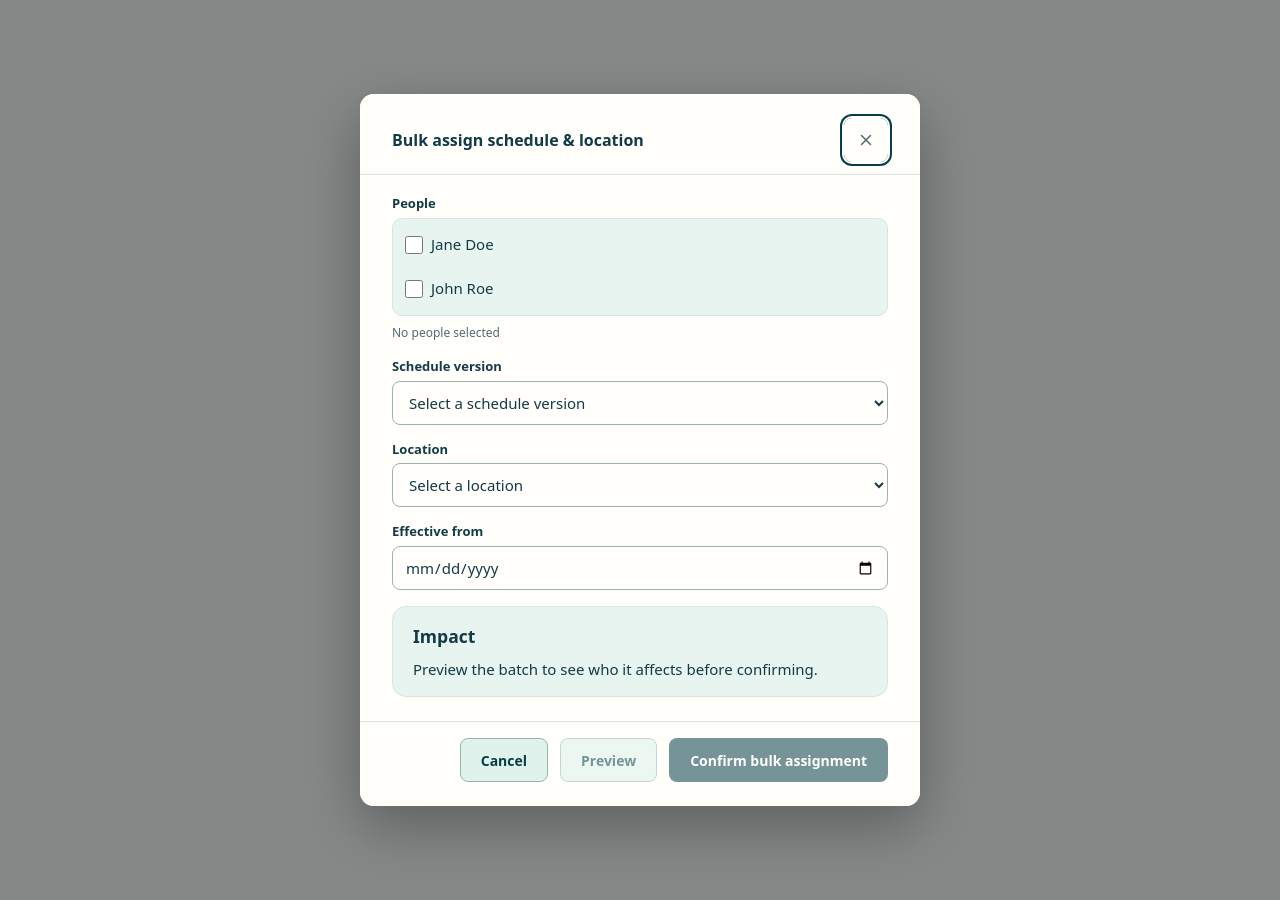
Test case: BulkScheduleAssignmentModal › confirm disabled until preview resolves
Expected: the button with test id "bulk-assignment-confirm-submit" is disabled, [669,738,888,782]
Click the text "Jane Doe" at [462, 245], box [431,234,494,256]
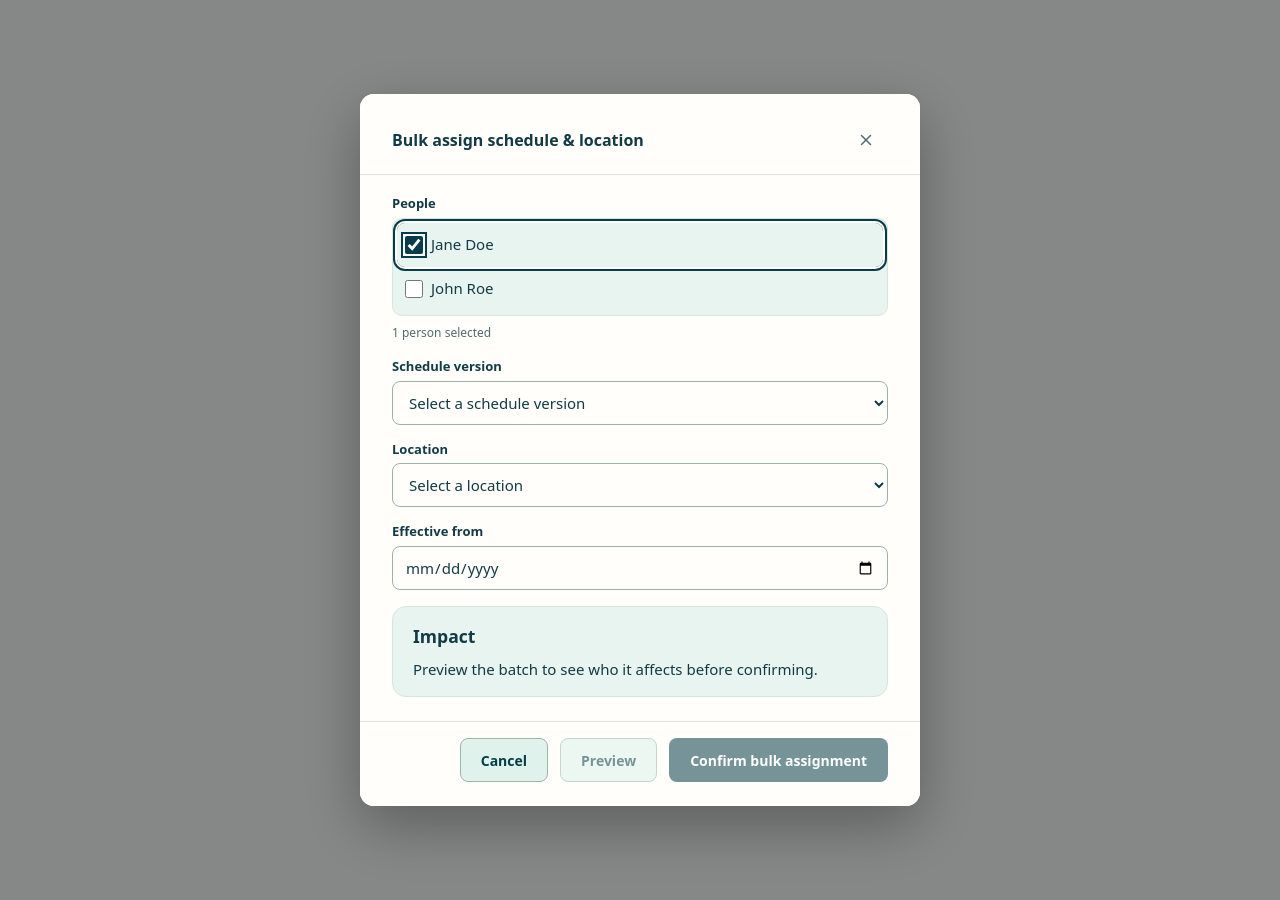
Click the text "John Roe" at [462, 289], box [431,278,494,300]
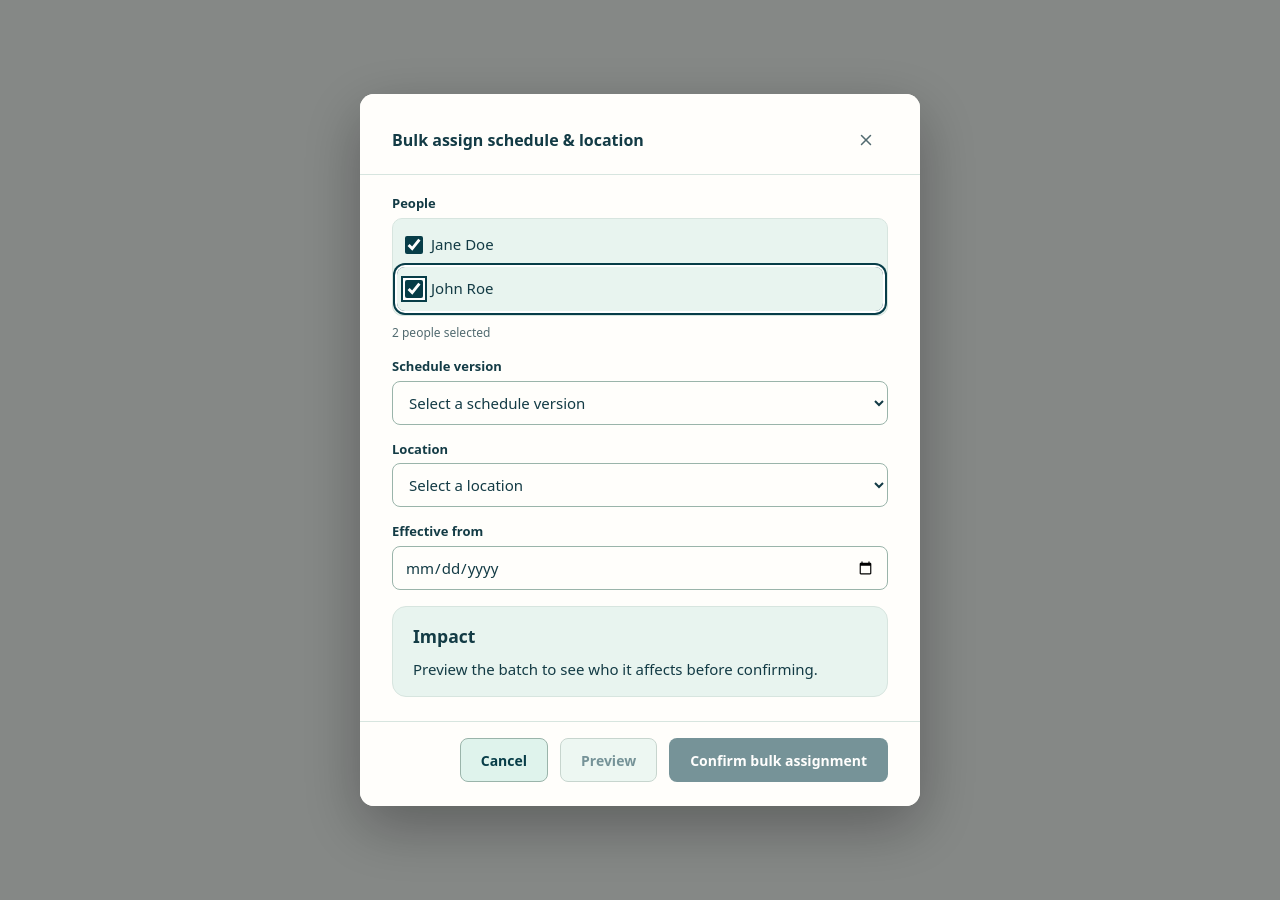
Select " Standard  · v1" in the dropdown labelled "Schedule version" at [640, 403], box [392,381,888,425]
Select "Cairo" in the dropdown labelled "Location" at [640, 486], box [392,464,888,508]
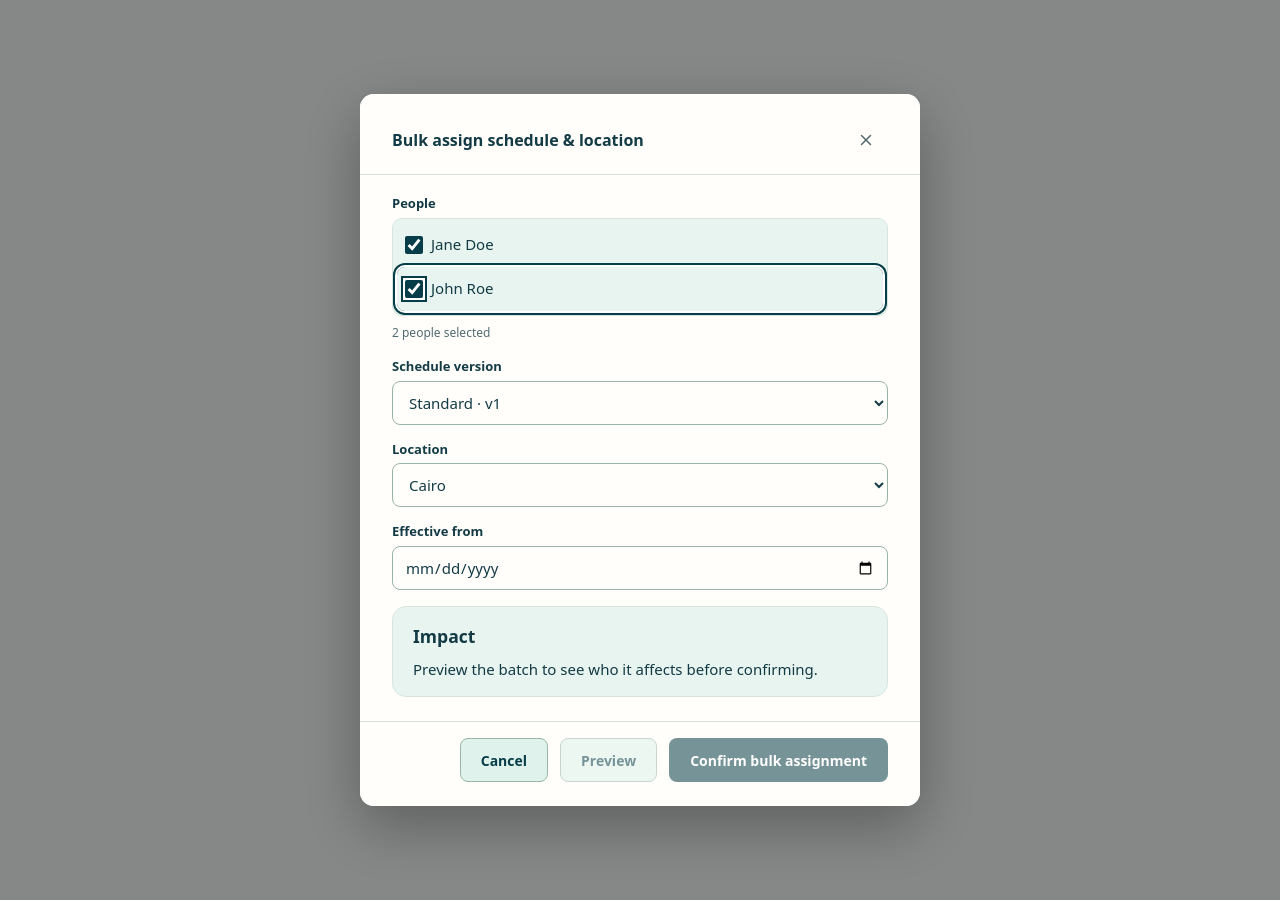
Type "2027-01-01" into the date field labelled "Effective from" at [640, 568], box [392,546,888,590]
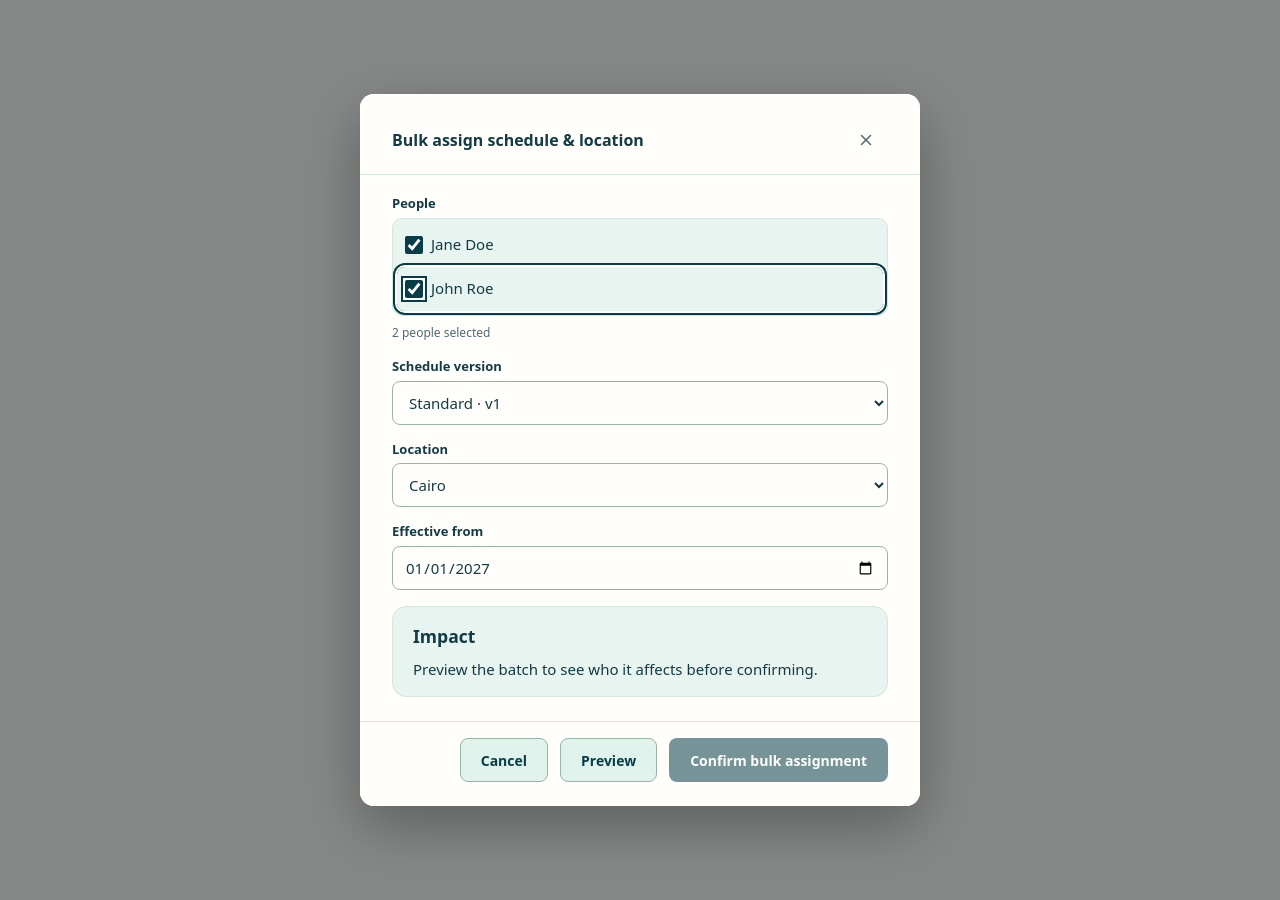
Expected: the button with test id "bulk-assignment-confirm-submit" is disabled, [669,738,888,782]
Click the button with test id "bulk-assignment-preview-submit" at [609, 760], box [560,738,657,782]
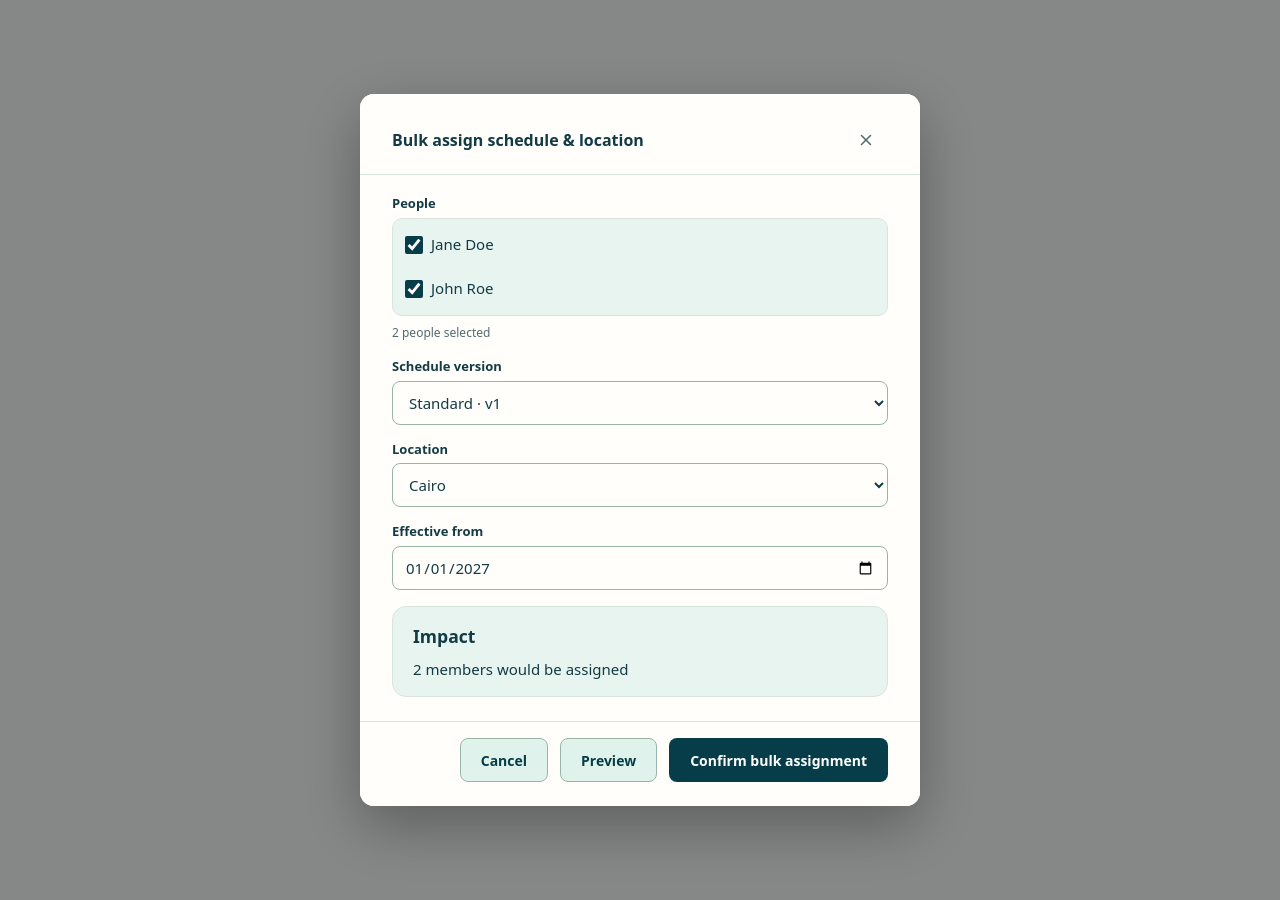
Now the button with test id "bulk-assignment-confirm-submit" is enabled, box [669,738,888,782]
Now the text with test id "bulk-assignment-affected-count" shows "2", box [413,659,628,679]
Click the text "Jane Doe" at [462, 245], box [431,234,494,256]
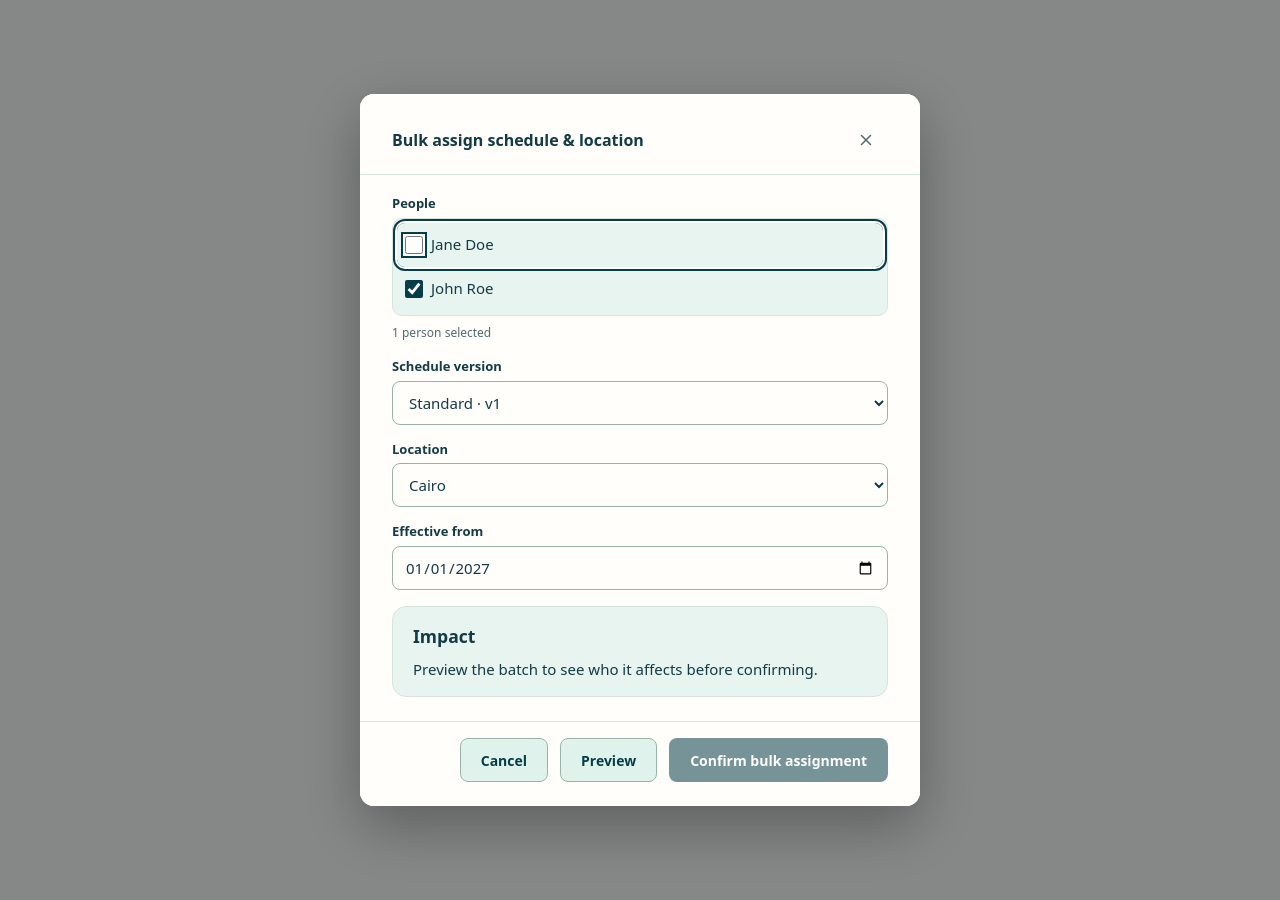
Now the button with test id "bulk-assignment-confirm-submit" is disabled, box [669,738,888,782]
